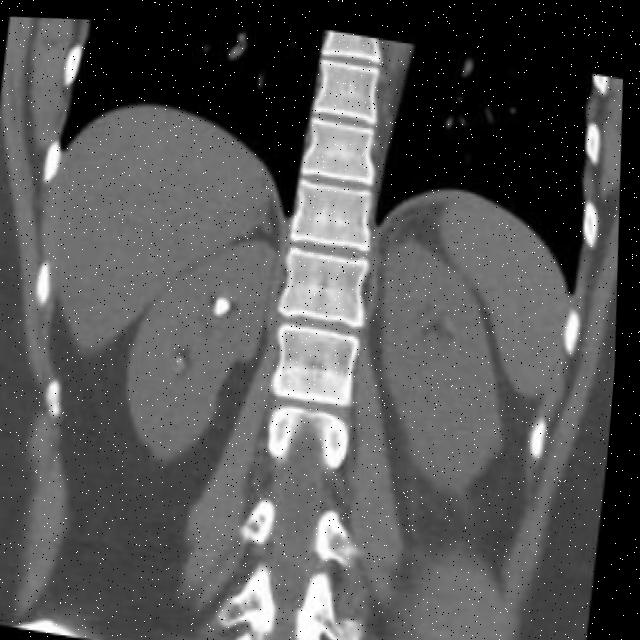Tas_Var: (214, 283, 242, 320), (179, 347, 189, 358)
